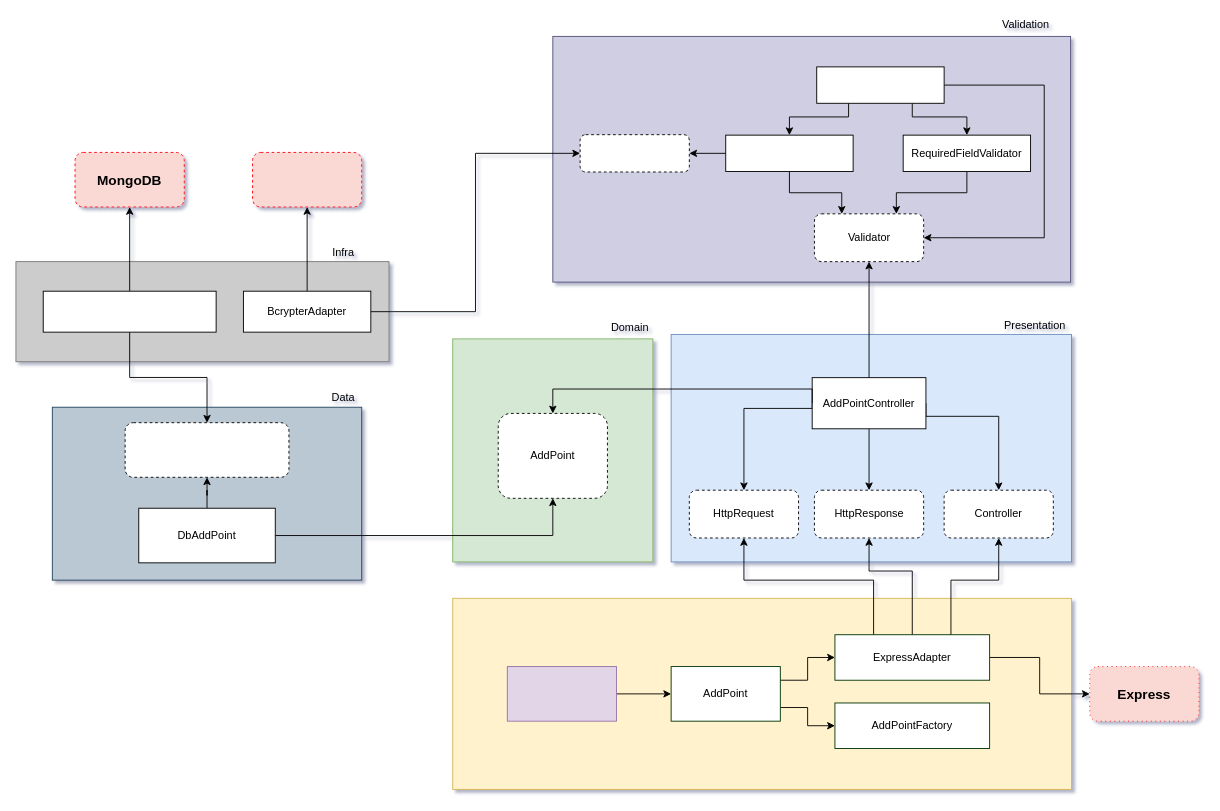
The diagram is 1220 pixels wide and 811 high, and some of its shapes have lost their labels. The shapes that lost their labels are listed below. From the top down, each one's box as (x1, y1, x2, y2) in pixels, then its label:
(816, 66, 944, 103): ValidatorComposite
(579, 134, 689, 172): JWTValidator
(725, 134, 853, 172): TokenValidator
(252, 152, 362, 207): jsonwebtoken
(42, 290, 216, 332): AddPointMongoRepository
(124, 422, 289, 477): AddPointRepository
(506, 666, 617, 721): App
